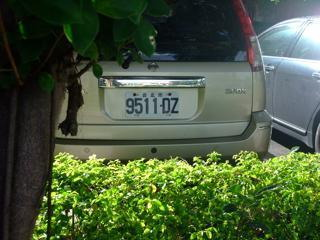plate: (122, 91, 181, 119)
